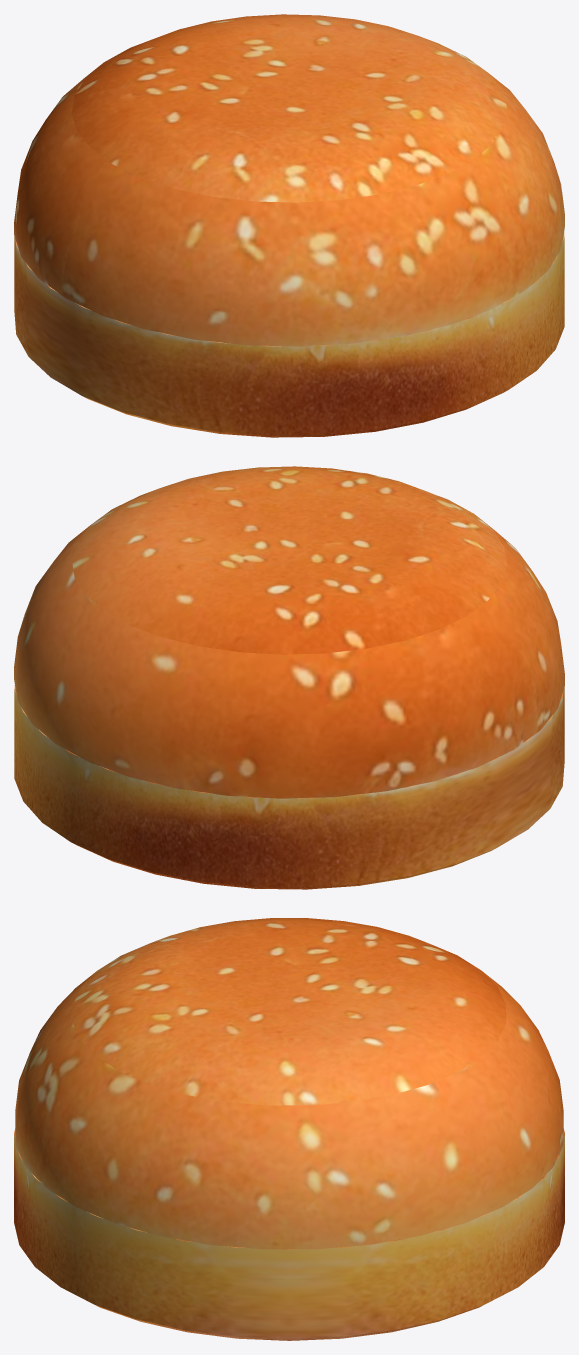
Rendered from broodje heel We are cooked.fbx.
3 views of the same model, one above another, from view 1: azimuth 30°, elevation 25°; view 2: azimuth 150°, elevation 25°; view 3: azimuth 270°, elevation 25° (orthographic).
Parts seen in each view (by area): view 1: bovenkant broodje.001, onderkant broodje.002; view 2: bovenkant broodje.001, onderkant broodje.002; view 3: bovenkant broodje.001, onderkant broodje.002.
Part boxes in pixels (bbox=[...]): bovenkant broodje.001: bbox=[14, 14, 564, 346]; onderkant broodje.002: bbox=[14, 232, 564, 437]; bovenkant broodje.001: bbox=[14, 466, 564, 798]; onderkant broodje.002: bbox=[14, 685, 564, 889]; bovenkant broodje.001: bbox=[15, 918, 563, 1249]; onderkant broodje.002: bbox=[14, 1128, 564, 1340].
Size of the model in its own units: 10 by 5 by 10.
